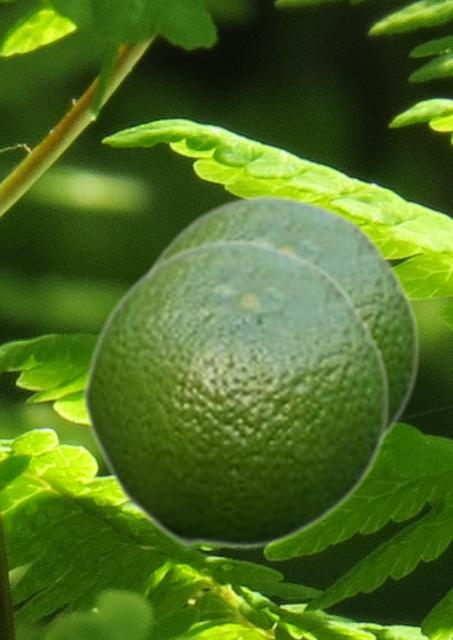calamansi: (80, 236, 390, 549), (144, 191, 420, 445)
